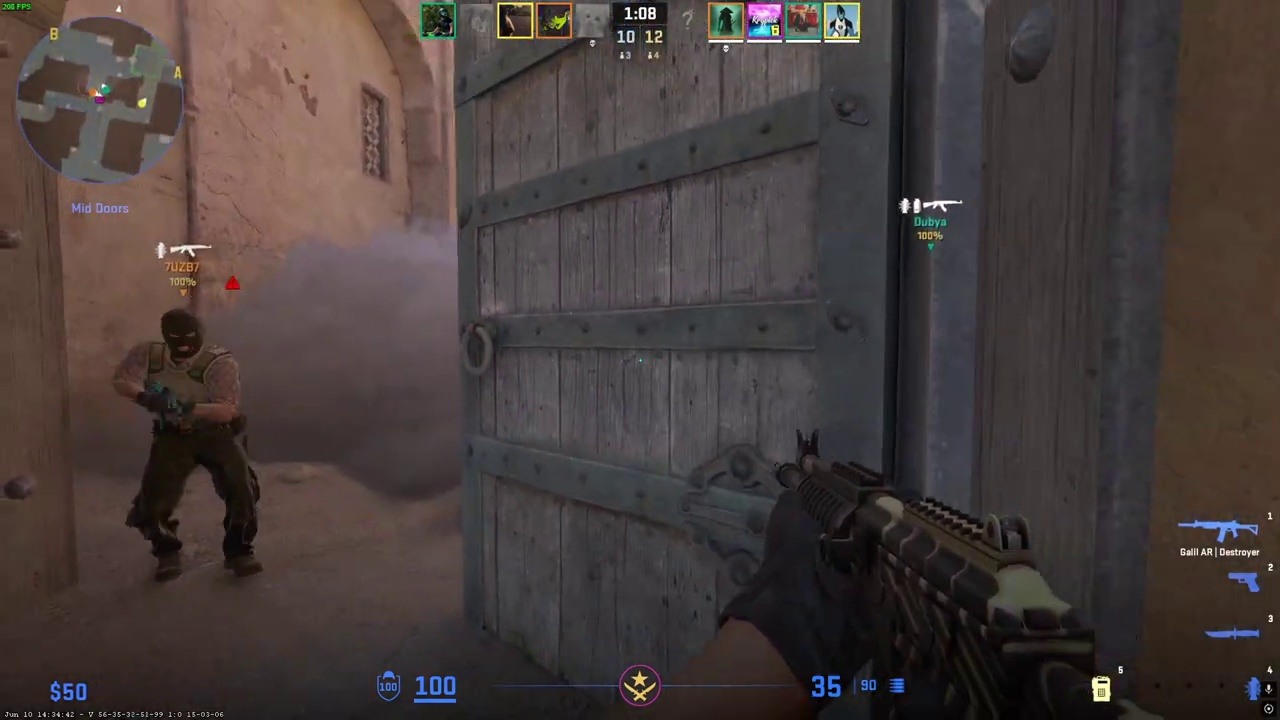Terrorist: (117, 308, 264, 587)
